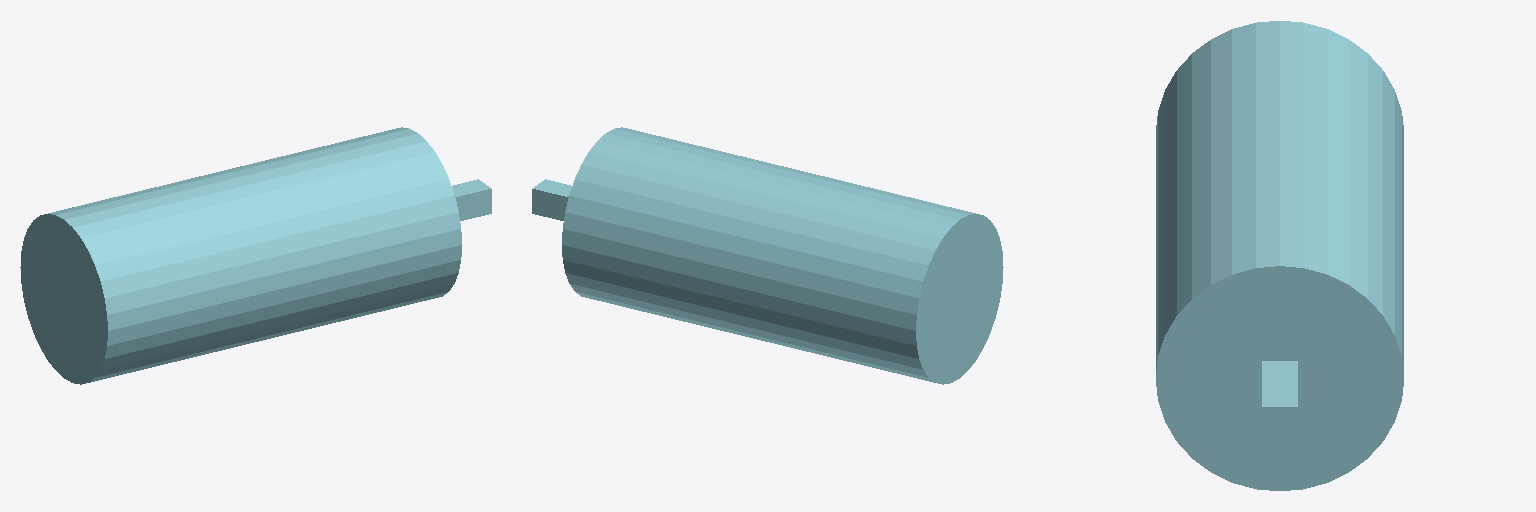
URDF robot description (cylinder_marker_v4011):
<?xml version="1.0"?>
<robot name="cylinder_marker_v4011">

  <link name="cylinder_marker_v4011">
    <!-- Handle -->
    <visual>
      <origin xyz="0 0 0" rpy="0 1.5707963267948966 0"/>
      <geometry>
        <cylinder length="0.1350722890231257" radius="0.028916931452584206"/>
      </geometry>
      <material name="material">
        <color rgba="0.639 0.847 0.882 1.0"/>
      </material>
    </visual>
    <collision>
      <origin xyz="0 0 0" rpy="0 1.5707963267948966 0"/>
      <geometry>
        <cylinder length="0.1350722890231257" radius="0.028916931452584206"/>
      </geometry>
    </collision>

    <!-- Head -->
    <visual>
      <origin xyz="0.08025722850260666 0 0" rpy="0 0 0"/>
      <geometry>
        <box size="0.025442167982087607 0.008490603919893185 0.009189901093276916"/>
      </geometry>
      <material name="material">
        <color rgba="0.639 0.847 0.882 1.0"/>
      </material>
    </visual>
    <collision>
      <origin xyz="0.08025722850260666 0 0" rpy="0 0 0"/>
      <geometry>
        <box size="0.025442167982087607 0.008490603919893185 0.009189901093276916"/>
      </geometry>
    </collision>

    <inertial>
      <density value="400.0"/>
    </inertial>
  </link>

</robot>

--- Render facts (derived) ---
3 views of the same robot in one strip: view 1: azimuth 30°, elevation 25°; view 2: azimuth 150°, elevation 25°; view 3: azimuth 270°, elevation 25° (orthographic).
Model cylinder_marker_v4011 with 1 links and 0 joints (none), rooted at cylinder_marker_v4011, posed every joint at zero.
Visible links, largest first — view 1: cylinder_marker_v4011; view 2: cylinder_marker_v4011; view 3: cylinder_marker_v4011.
Boxes of the visible links, bbox=[...] form: cylinder_marker_v4011: bbox=[20, 127, 491, 384]; cylinder_marker_v4011: bbox=[532, 127, 1003, 384]; cylinder_marker_v4011: bbox=[1156, 21, 1403, 490].
Size in the robot's own frame: 0.1605 by 0.0578 by 0.0578 metres.
Geometry: primitives only (box / cylinder / sphere), no mesh files.
